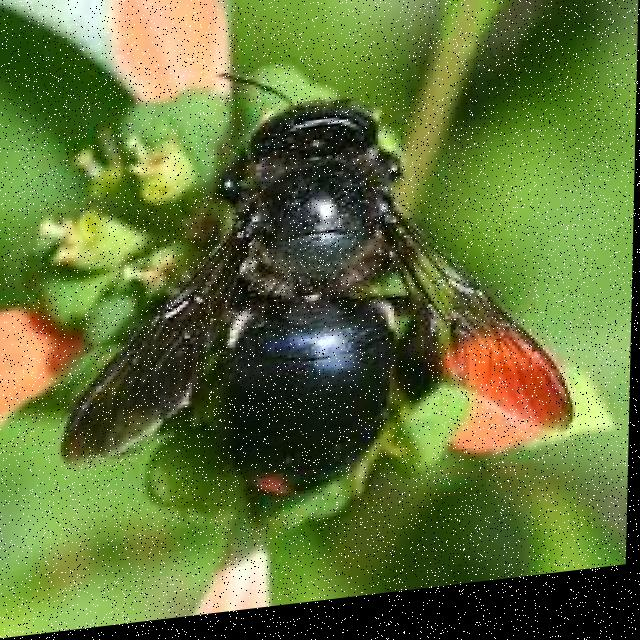Xylocopa: (67, 32, 610, 543)
